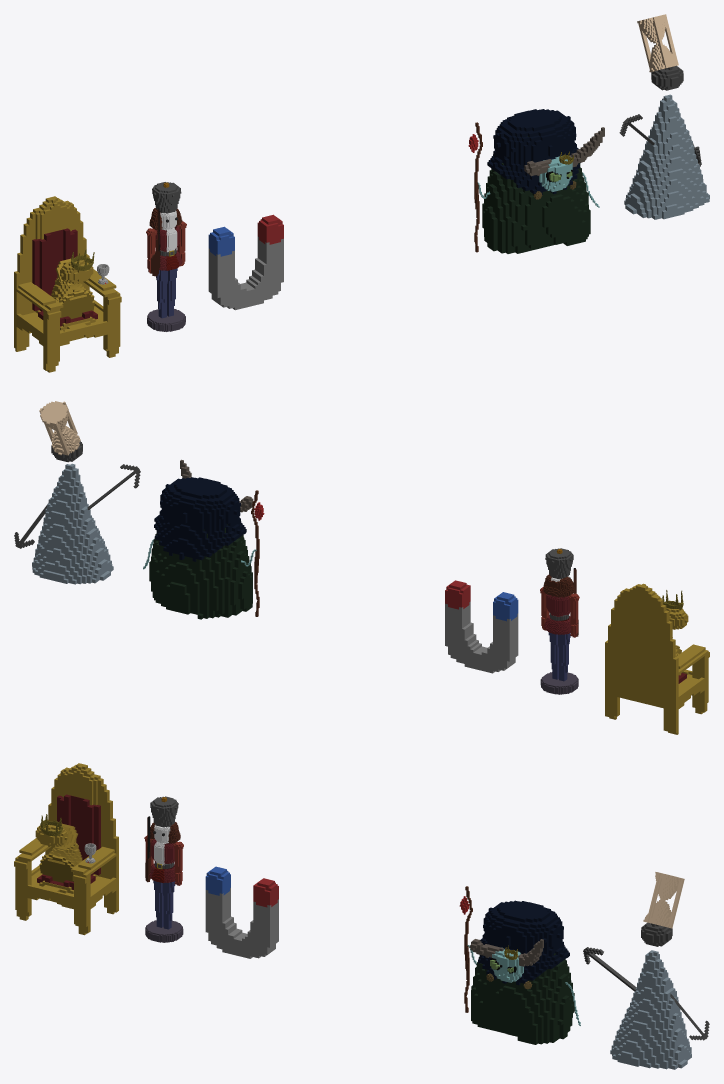
File: FinalChessPieces.fbx
3 renders of one model, top to bottom at view 1: azimuth 30°, elevation 25°; view 2: azimuth 150°, elevation 25°; view 3: azimuth 330°, elevation 25°, orthographic. The views are drawn at different scales.
Parts seen in each view (by area): view 1: Litch, CorruptKing, FatherTime, Magnet, Nutcracker; view 2: Litch, CorruptKing, FatherTime, Magnet, Nutcracker; view 3: Litch, CorruptKing, FatherTime, Magnet, Nutcracker.
Part boxes in pixels (x1=…): Litch: x1=468, y1=109, x2=604, y2=253; CorruptKing: x1=14, y1=196, x2=121, y2=372; FatherTime: x1=619, y1=14, x2=709, y2=219; Magnet: x1=208, y1=214, x2=283, y2=310; Nutcracker: x1=146, y1=182, x2=186, y2=331; Litch: x1=143, y1=459, x2=264, y2=619; CorruptKing: x1=605, y1=583, x2=709, y2=734; FatherTime: x1=14, y1=401, x2=140, y2=584; Magnet: x1=445, y1=580, x2=518, y2=673; Nutcracker: x1=540, y1=548, x2=579, y2=694; Litch: x1=459, y1=886, x2=580, y2=1044; CorruptKing: x1=14, y1=763, x2=118, y2=935; FatherTime: x1=583, y1=872, x2=709, y2=1069; Magnet: x1=205, y1=866, x2=278, y2=958; Nutcracker: x1=144, y1=796, x2=183, y2=942.
Bounding box in the file's own units: 3027 × 778 × 385.
